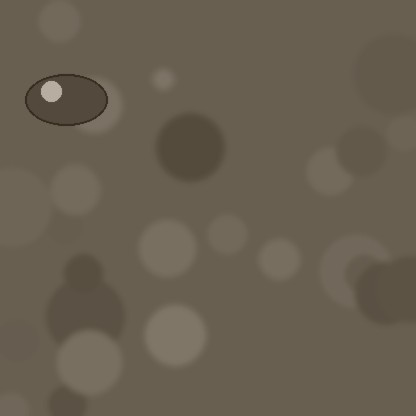gota: (25, 76, 107, 130)
